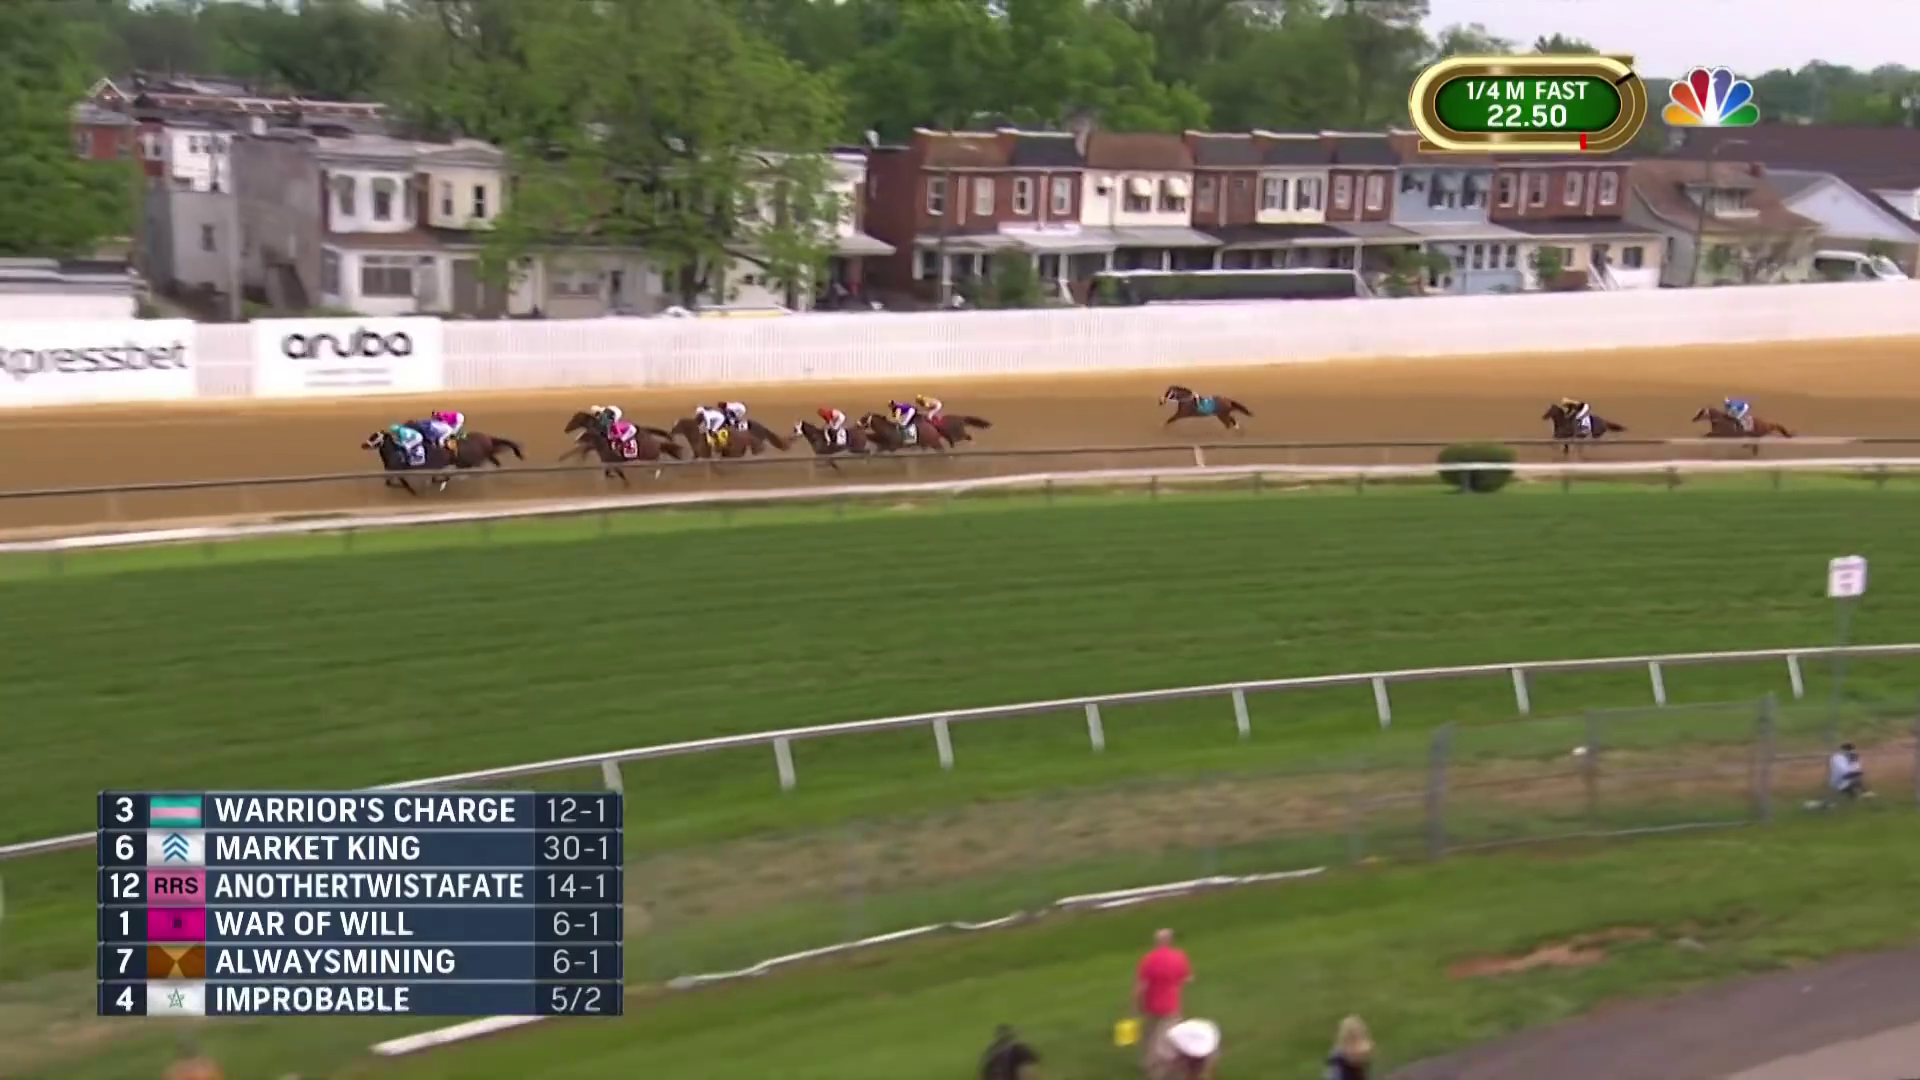jockey: (389, 425, 422, 458), (593, 404, 624, 439), (696, 404, 725, 440), (914, 392, 945, 425), (818, 406, 847, 442), (433, 409, 469, 436), (717, 400, 748, 433), (886, 397, 915, 430), (609, 418, 641, 447)
